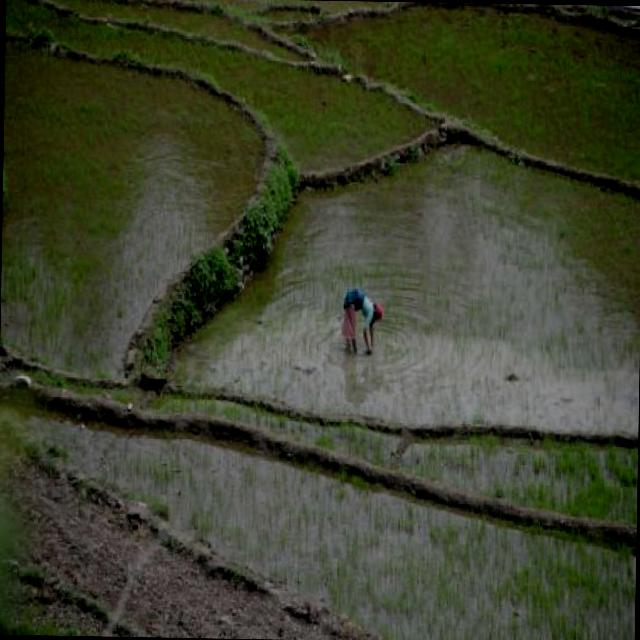Person: (342, 284, 384, 358)
